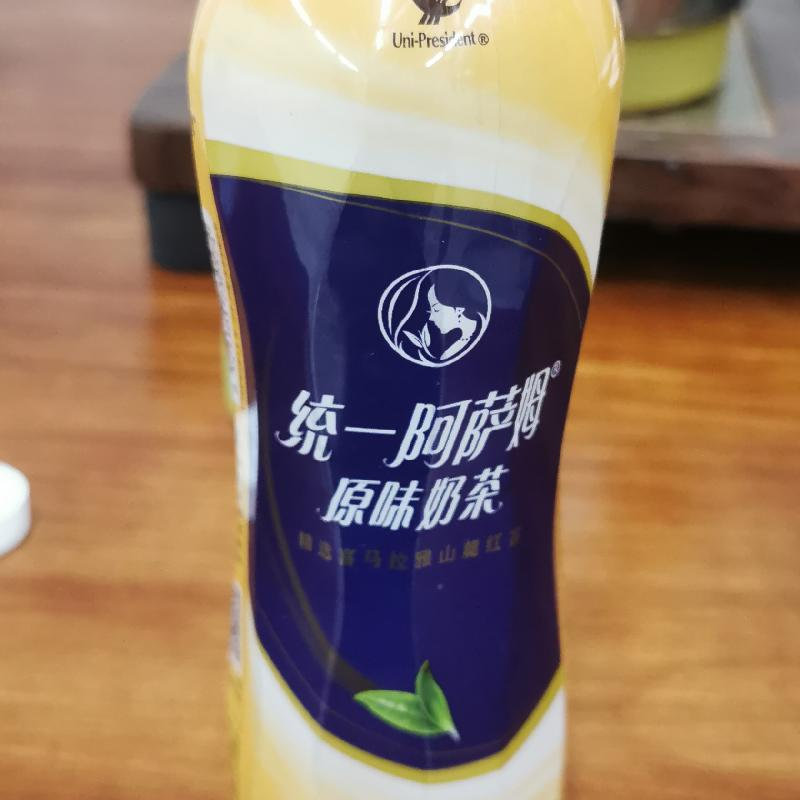bottles: (175, 1, 632, 799)
